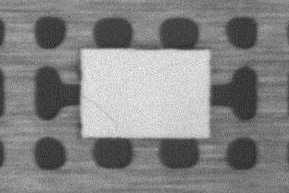DIE_CRACK: (82, 95, 118, 132)
